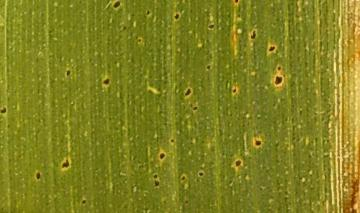tarspot: (58, 156, 74, 173), (155, 148, 168, 164), (98, 74, 113, 87), (252, 137, 266, 150), (182, 85, 195, 99), (272, 73, 285, 87), (169, 9, 183, 21), (32, 169, 44, 182), (248, 28, 259, 42), (62, 67, 74, 79), (204, 21, 218, 31), (150, 178, 162, 189), (166, 137, 180, 146), (178, 172, 188, 184), (197, 167, 207, 179), (234, 156, 242, 170), (79, 196, 90, 206), (203, 63, 214, 73), (142, 7, 153, 17), (134, 35, 145, 45), (267, 42, 275, 55), (1, 104, 9, 116), (190, 103, 200, 112), (230, 85, 239, 95), (112, 1, 124, 8), (149, 171, 160, 178), (275, 64, 283, 72), (231, 1, 242, 5)
